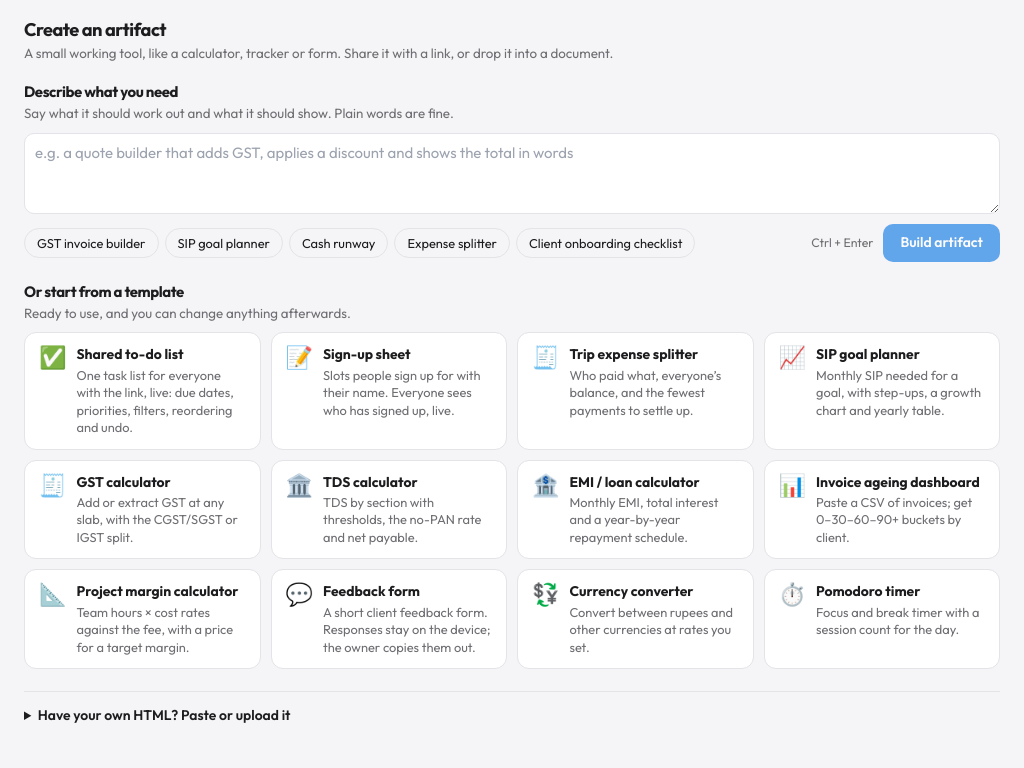
Test case: building › announces progress in a live region and can be cancelled
Replace the text in the text box named "Describe the artifact" with "a SIP planner": (512, 174) x1=24 y1=133 x2=1000 y2=214
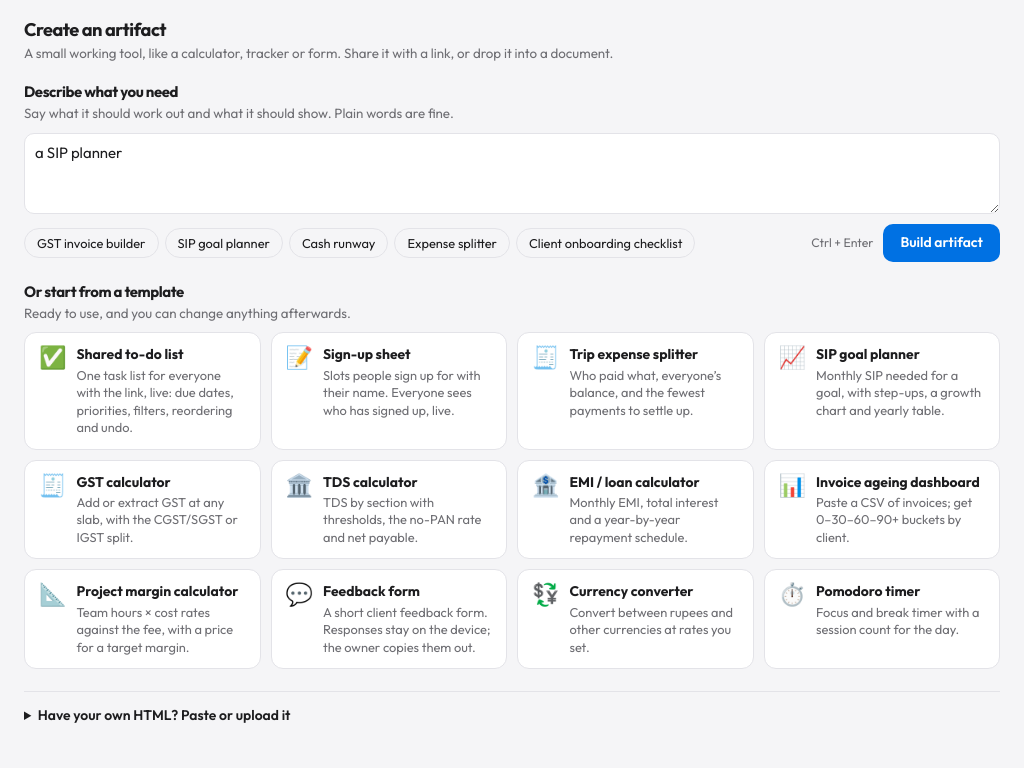
Click the button "Build artifact": (942, 243) x1=883 y1=224 x2=1000 y2=262
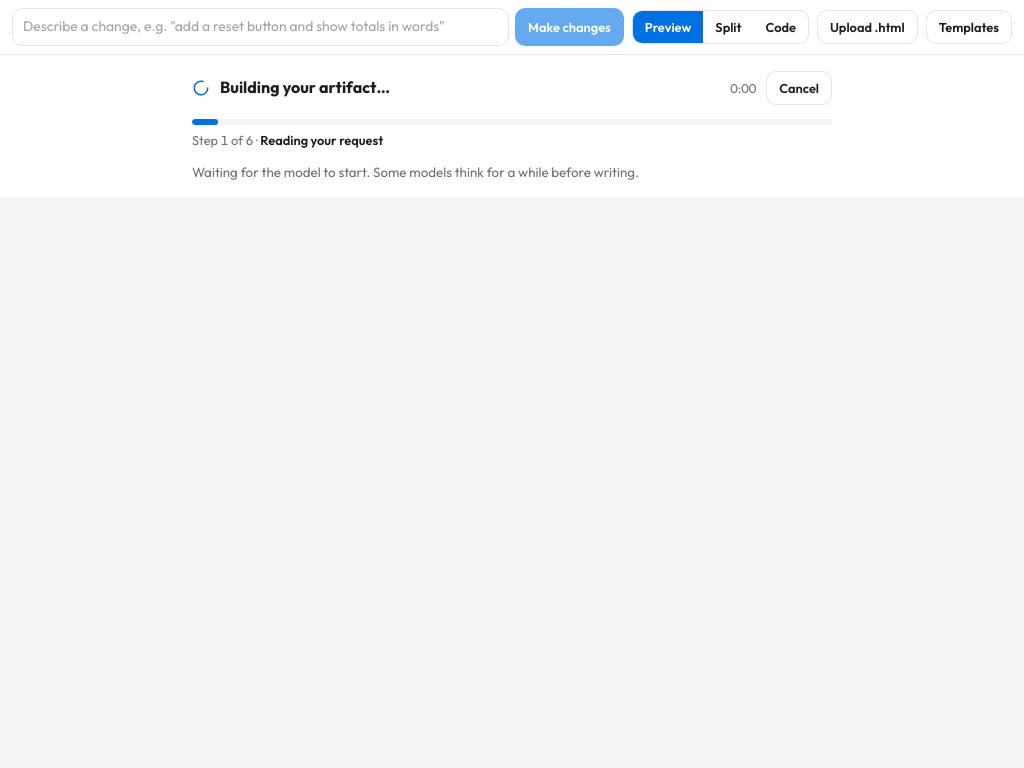
Expected: the element that starts with "Building your artifact" is shown, x1=192 y1=70 x2=832 y2=181
Click the button "Cancel": (799, 88) x1=766 y1=70 x2=832 y2=104
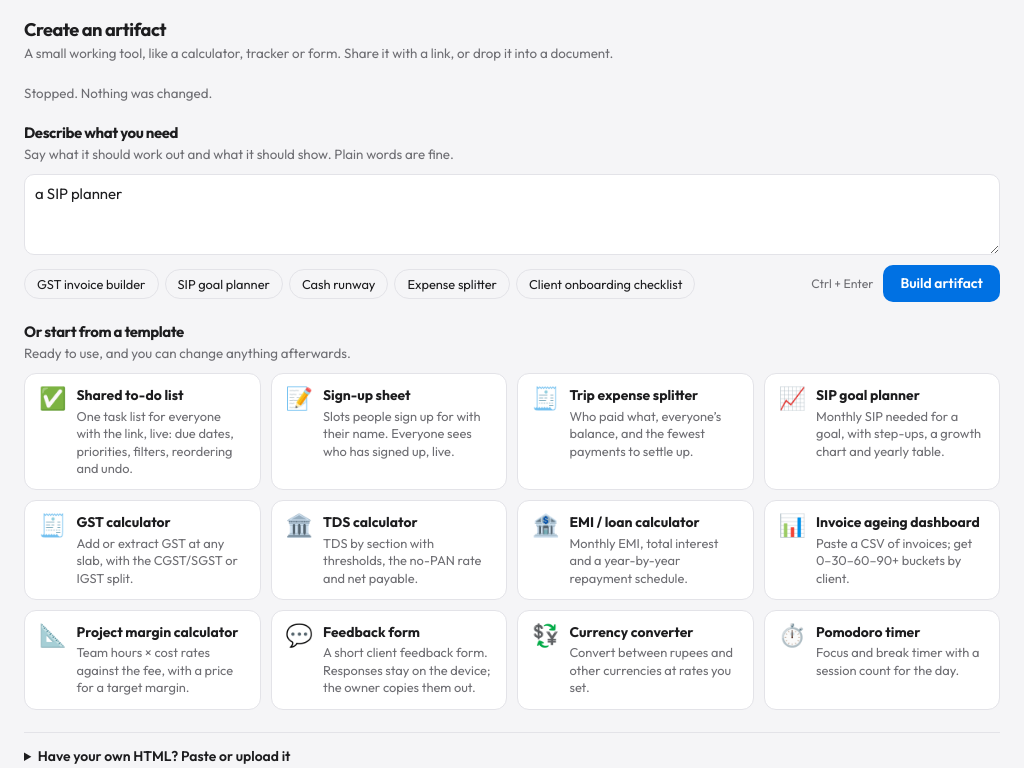
Expected: the text box named "Describe the artifact" holds "a SIP planner", x1=24 y1=174 x2=1000 y2=255
